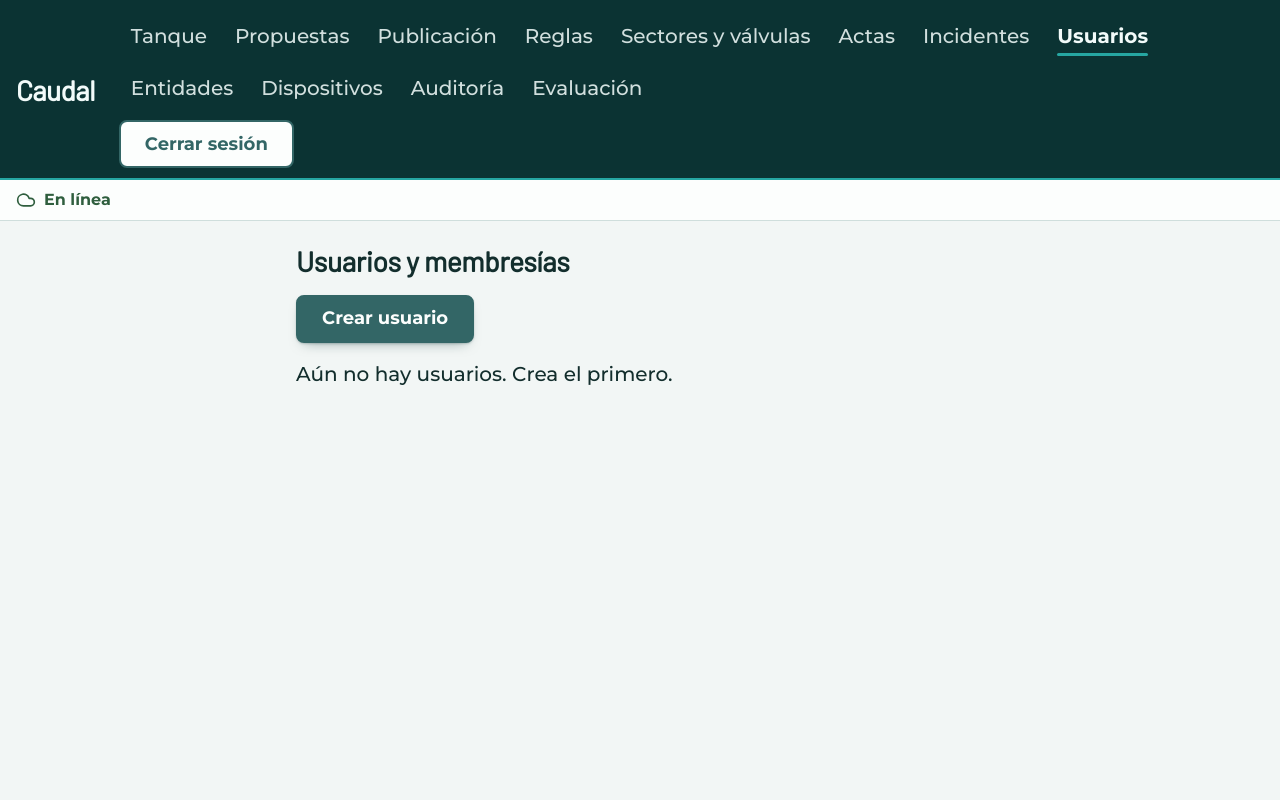
it: user administration (F089) › creates an account and shows its activation code exactly once
The image size is (1280, 800).
Click the button "Crear usuario": coordinates (385, 319) [296,295,474,343]
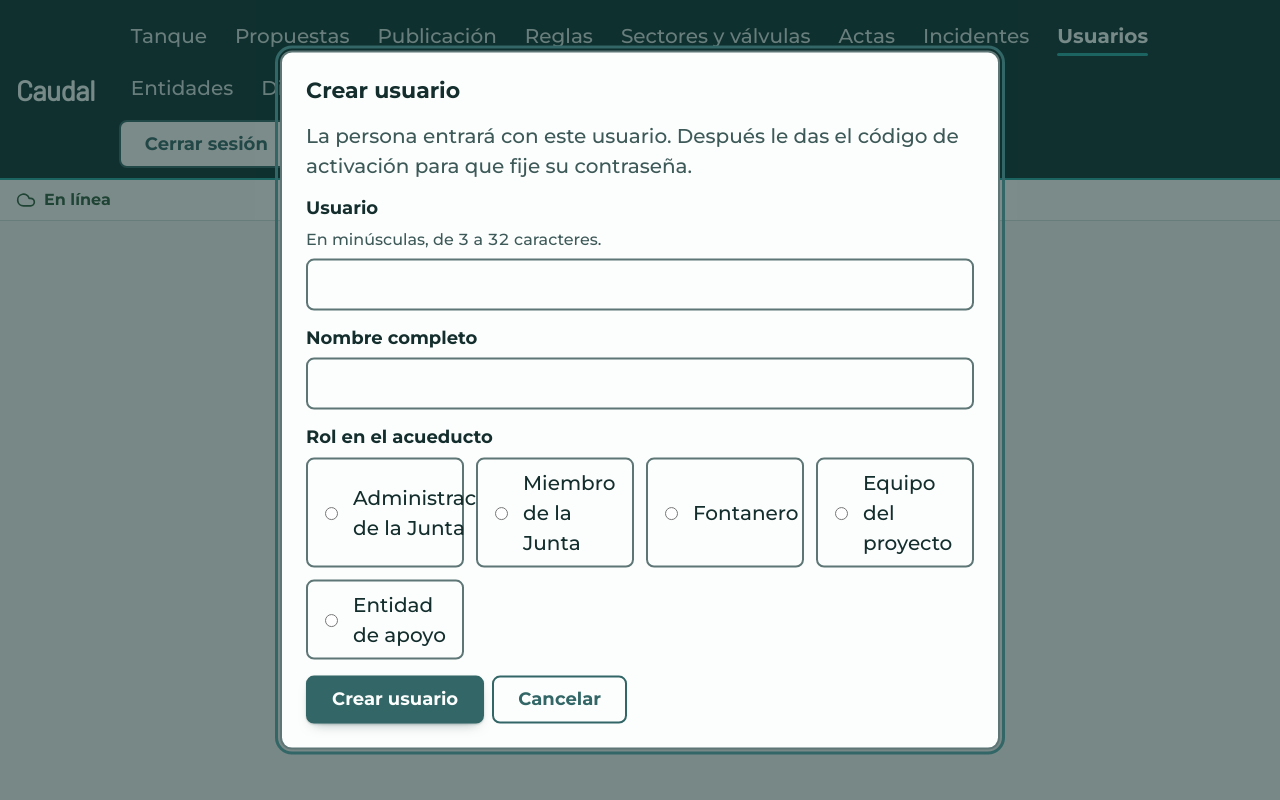
In the field labelled "Usuario": coordinates (640, 285) [306,259,974,311], type "operador.nuevo"
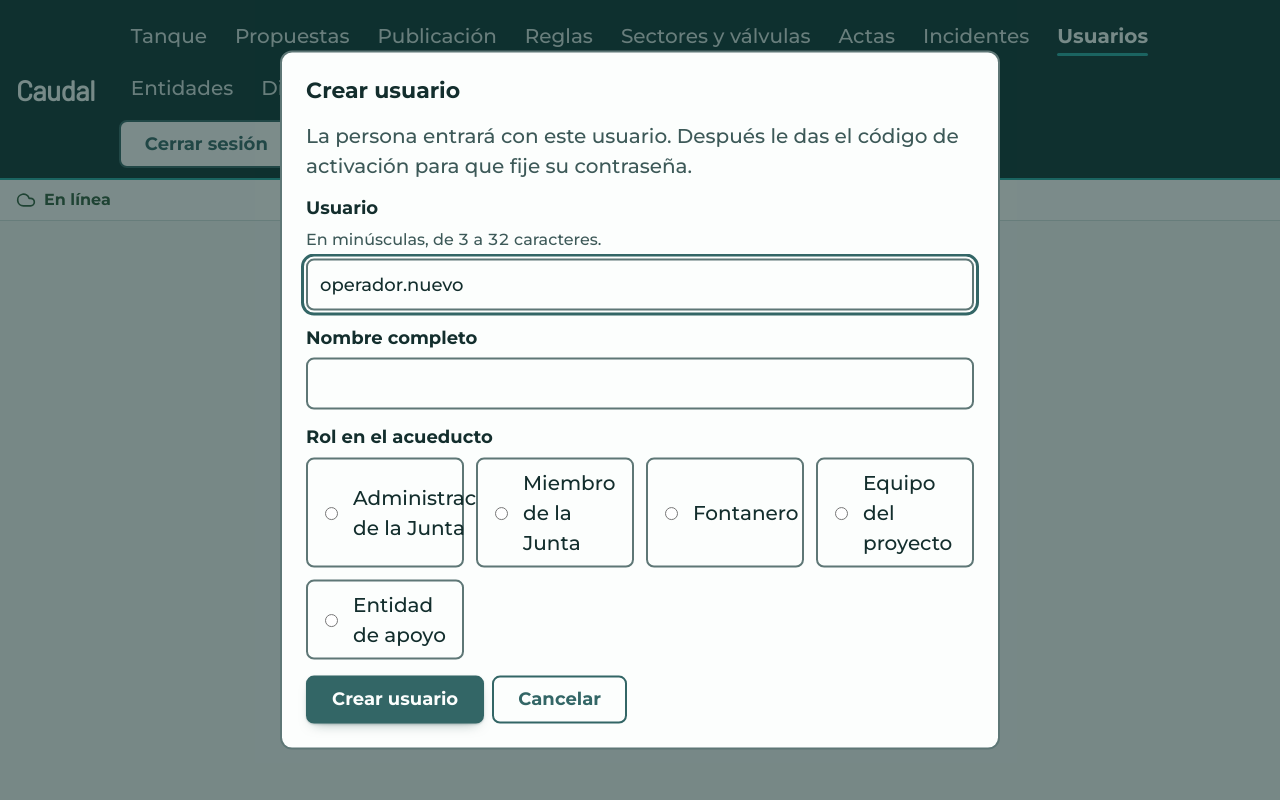
In the field labelled "Nombre completo": coordinates (640, 384) [306,358,974,410], type "Persona Nueva"
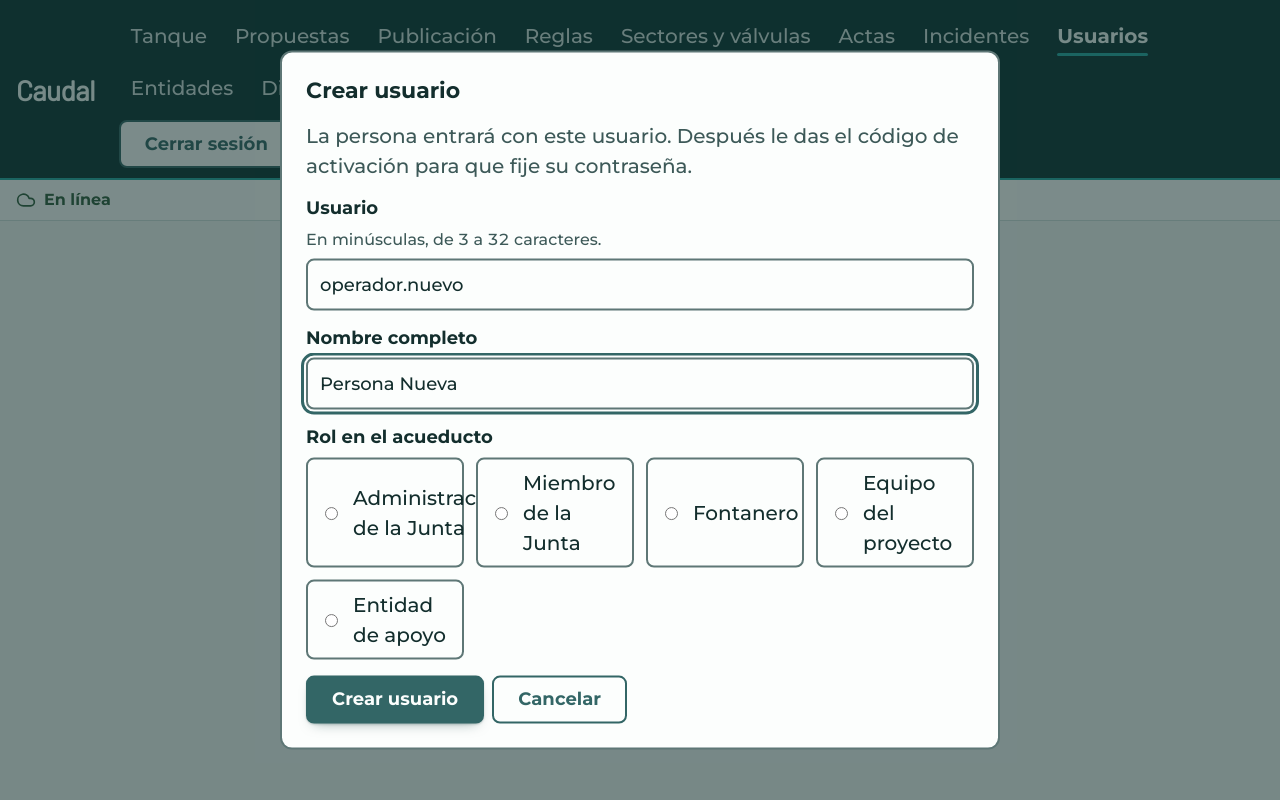
Click the radio button labelled "Fontanero": coordinates (672, 514) [665,502,678,526]
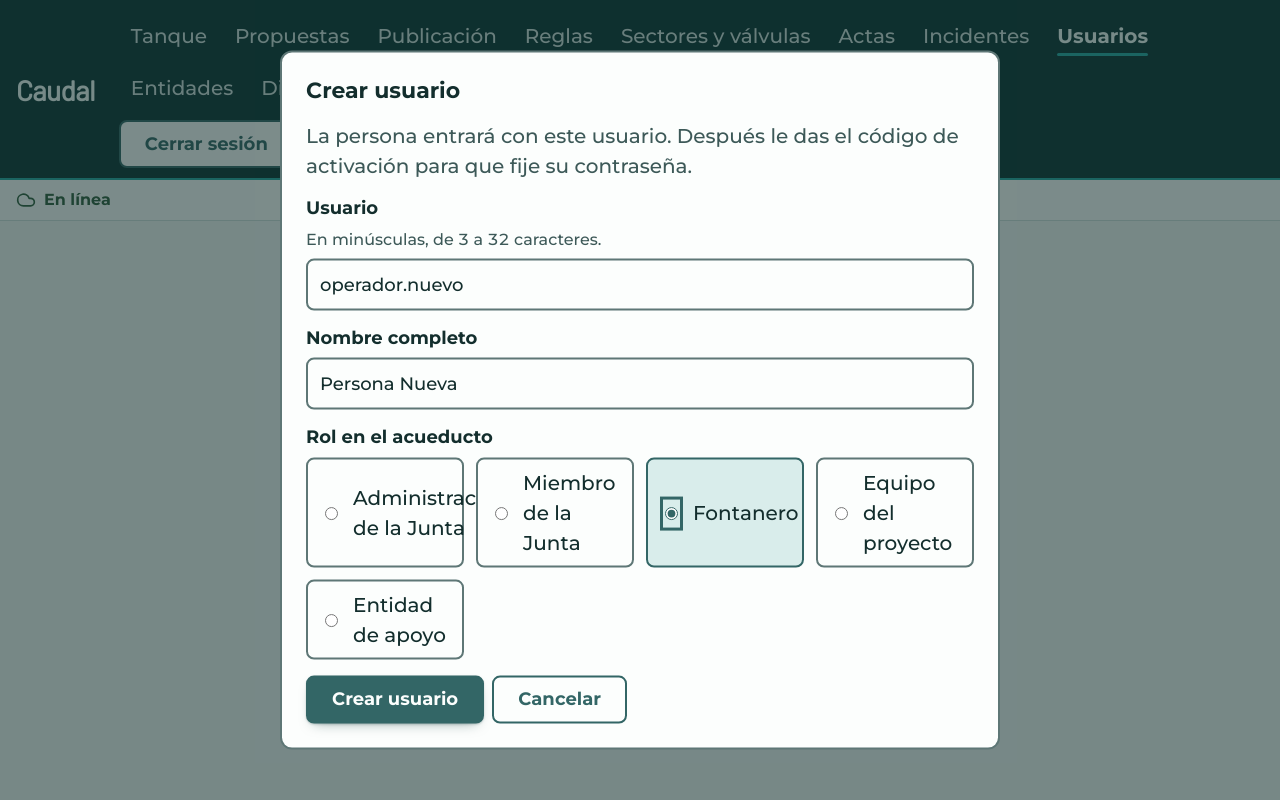
Click the button "Crear usuario": coordinates (395, 699) [306,675,484,723]
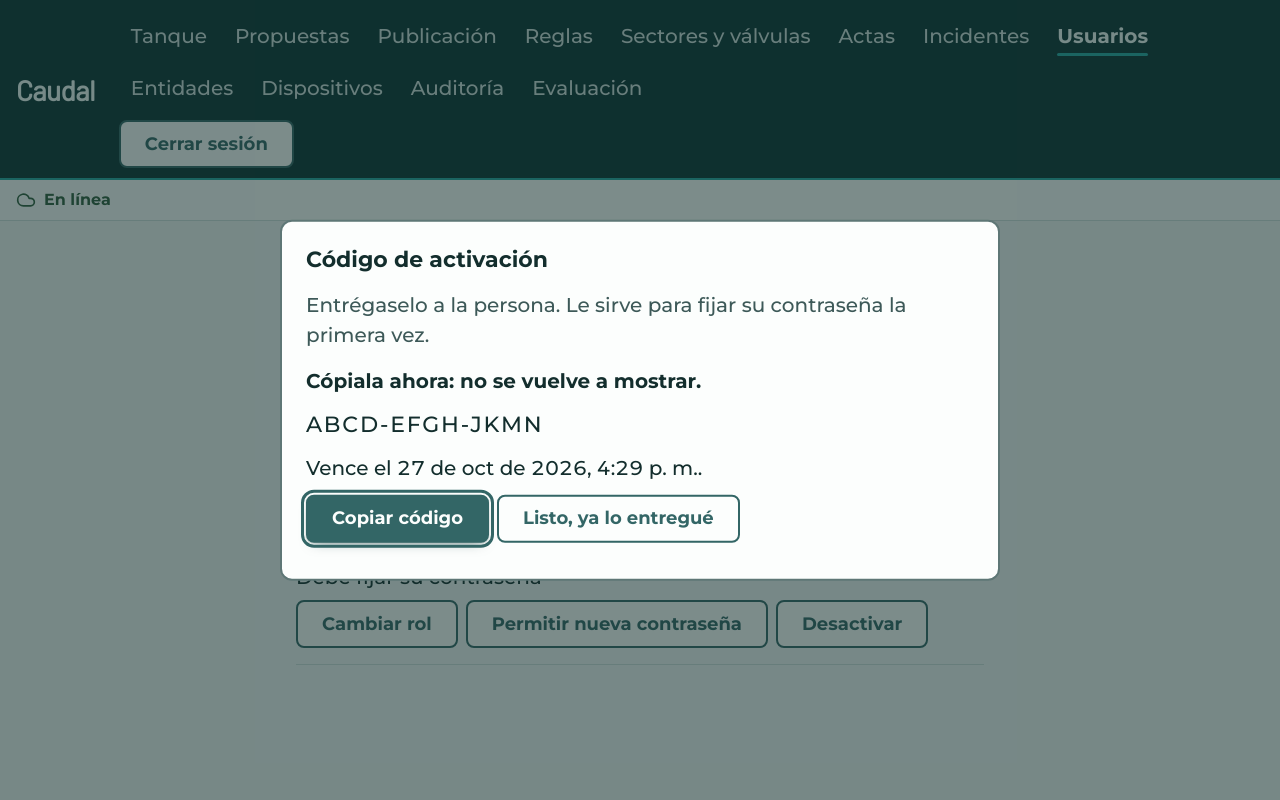
Expected: the text "Cópiala ahora: no se vuelve a mostrar." is shown, [306,368,701,392]
Expected: the text "ABCD-EFGH-JKMN" is shown once, [306,410,543,437]
Click the button "Listo, ya lo entregué": coordinates (618, 518) [497,494,740,542]
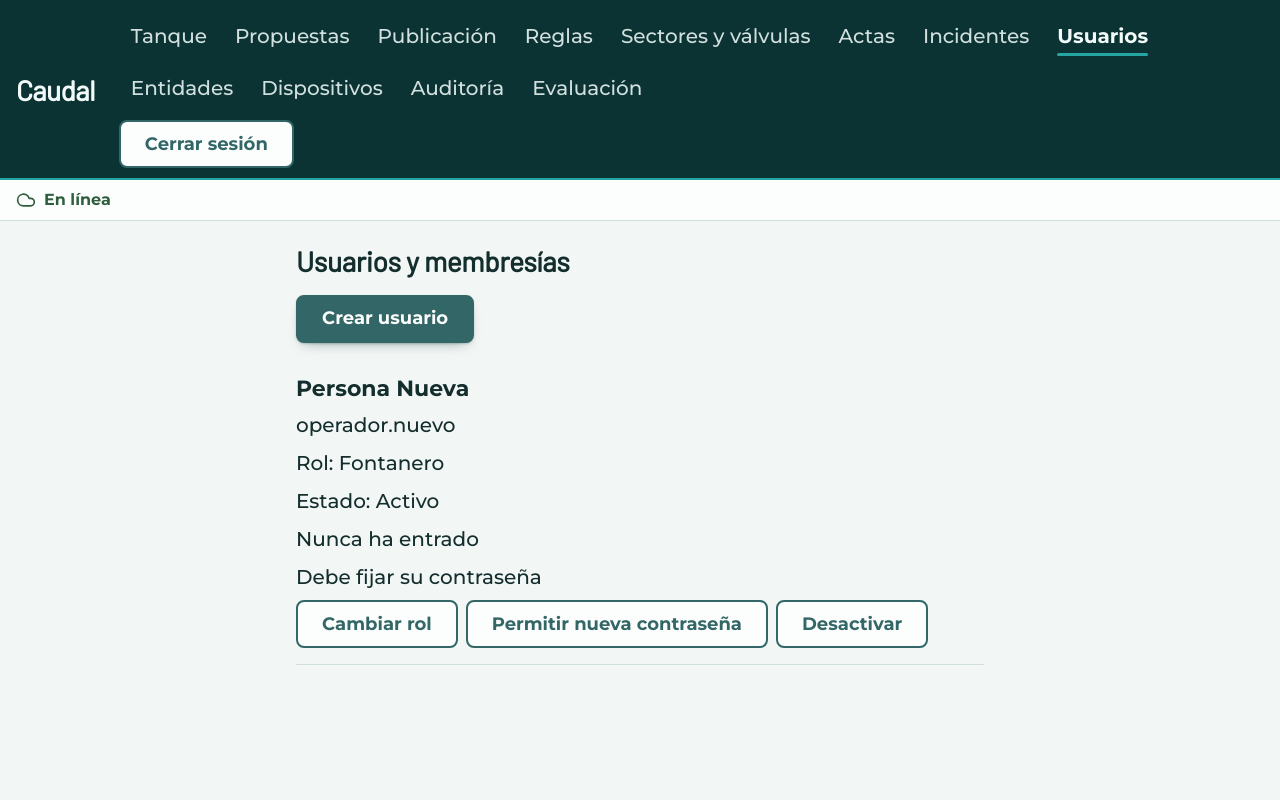
Expected: the text "ABCD-EFGH-JKMN" is gone
